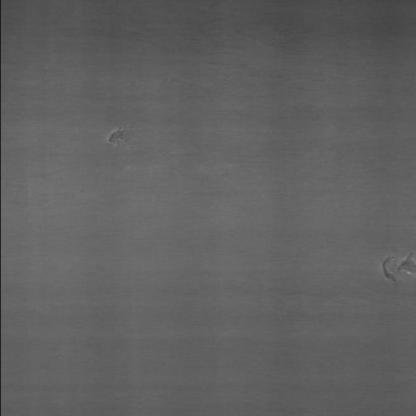rolled_pit: (366, 251, 415, 290), (100, 122, 133, 152)
